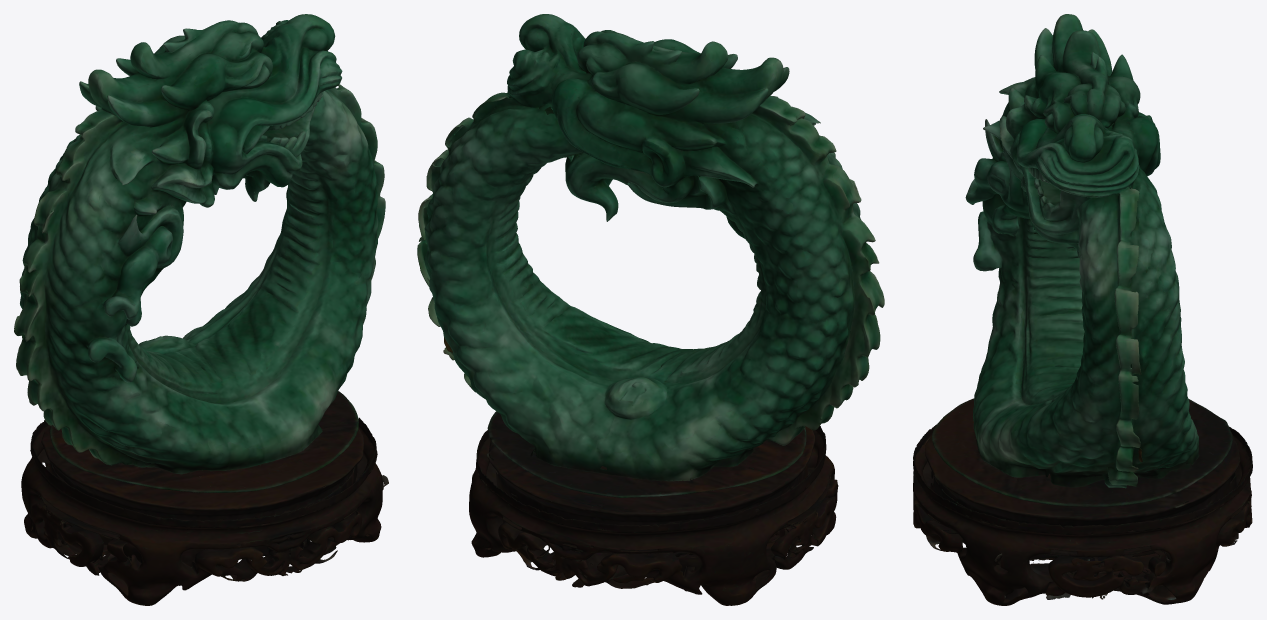
Rendered from obj123_jade_dragon_curio.glb.
The picture shows the model from 3 angles, left to right: view 1: azimuth 30°, elevation 25°; view 2: azimuth 150°, elevation 25°; view 3: azimuth 270°, elevation 25°; orthographic projection. The views are drawn at different scales.
Bounding box in the file's own units: 0.3856 × 0.4619 × 0.29.
1 material, 1 textured.
